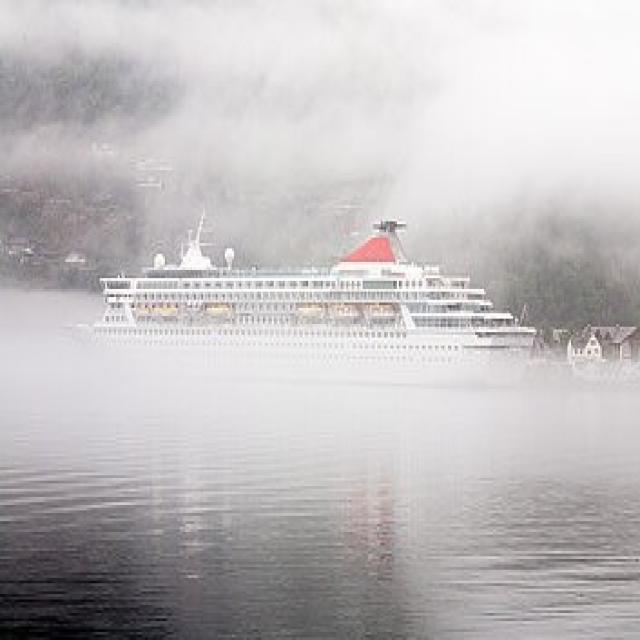passenger ship: (69, 212, 540, 390)
